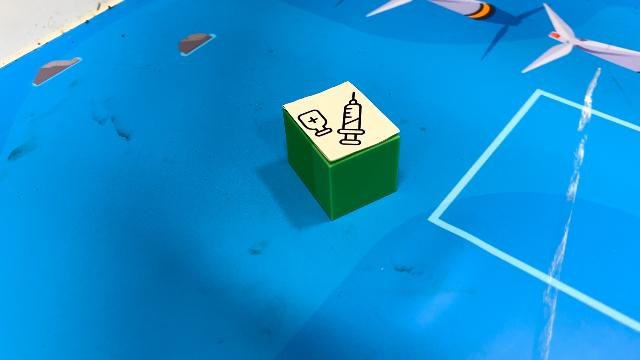syringe: (282, 80, 401, 220)
